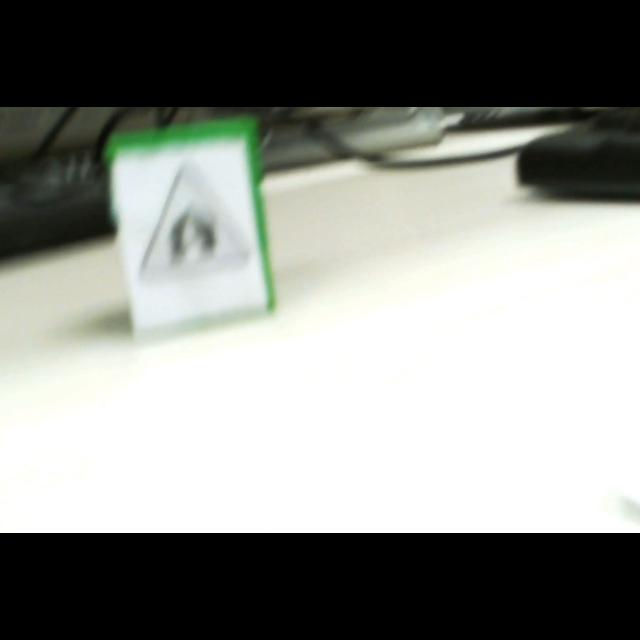Earthquake: (140, 162, 250, 276)
